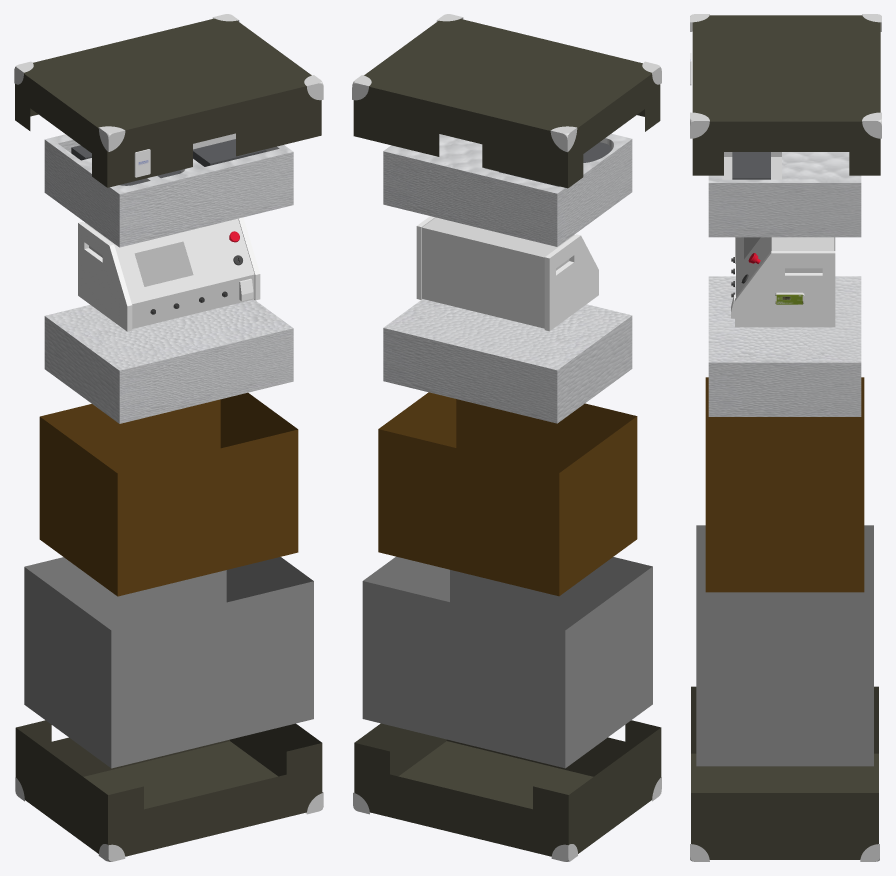
The model's file is Qtracker.gltf.
3 renders of one model, left to right at view 1: azimuth 30°, elevation 25°; view 2: azimuth 150°, elevation 25°; view 3: azimuth 270°, elevation 25°, orthographic.
Parts seen in each view (by area): view 1: Box_1.005, Cube.003, Cube.001, box_bottom, Cube.017, Cube.020, BioBlade, BioBlade_right.002, BioBlade_display, Cube.008; view 2: Box_1.005, Cube.003, Cube.001, box_bottom, Cube.017, Cube.020, BioBlade, BioBlade_right.002; view 3: Box_1.005, Cube.003, Cube.001, box_bottom, Cube.017, Cube.020, BioBlade_right, BioBlade, Cube.008, Cube.014, Cube.015.
Boxes of the visible parts, <box> form: Box_1.005: <box>24,557,313,768</box>; Cube.003: <box>39,392,298,596</box>; Cube.001: <box>15,18,321,187</box>; box_bottom: <box>15,720,322,860</box>; Cube.017: <box>44,299,293,423</box>; Cube.020: <box>44,133,293,247</box>; BioBlade: <box>84,218,254,328</box>; BioBlade_right.002: <box>78,221,132,331</box>; BioBlade_display: <box>135,241,193,286</box>; Cube.008: <box>193,139,266,166</box>; Box_1.005: <box>362,556,652,768</box>; Cube.003: <box>378,392,637,596</box>; Cube.001: <box>353,19,660,188</box>; box_bottom: <box>354,720,661,860</box>; Cube.017: <box>383,299,632,423</box>; Cube.020: <box>383,133,632,246</box>; BioBlade: <box>422,217,574,328</box>; BioBlade_right.002: <box>544,234,598,331</box>; Box_1.005: <box>696,525,873,766</box>; Cube.003: <box>705,377,864,592</box>; Cube.001: <box>692,15,880,175</box>; box_bottom: <box>691,686,878,859</box>; Cube.017: <box>708,276,861,416</box>; Cube.020: <box>708,152,861,237</box>; BioBlade_right: <box>735,251,835,327</box>; BioBlade: <box>736,237,833,296</box>; Cube.008: <box>732,152,770,179</box>; Cube.014: <box>690,112,709,138</box>; Cube.015: <box>862,112,881,138</box>.
Bounding box in the file's own units: 0.7756 × 2.51 × 0.5884.
Materials: 19 (5 with a texture image).
